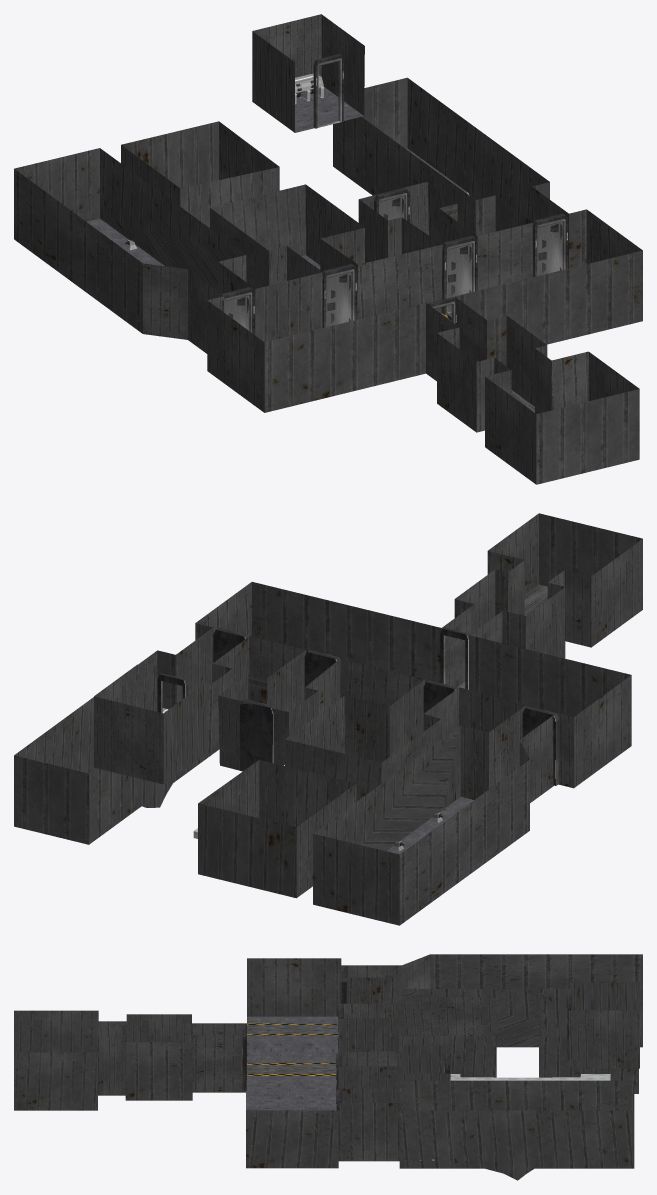
The model's file is Tutorial.fbx.
3 renders of one model, top to bottom at view 1: azimuth 30°, elevation 25°; view 2: azimuth 150°, elevation 25°; view 3: azimuth 270°, elevation 25°, orthographic. The views are drawn at different scales.
Parts seen in each view (by area): view 1: Plane.001, BlastDoorOpen.002, BlastDoorOpen.003, BlastDoorOpen, BlastDoorOpen.001, BlastDoorClosed.001, BlastDoorOpen.004; view 2: Plane.001, BlastDoorOpen.004, BlastDoorOpen.001, BlastDoorOpen.002, BlastDoorClosed, BlastDoorOpen.003, BlastDoorOpen; view 3: Plane.001.
Part boxes in pixels (x1=…): Plane.001: x1=14, y1=14, x2=642, y2=484; BlastDoorOpen.002: x1=441, y1=235, x2=477, y2=314; BlastDoorOpen.003: x1=533, y1=213, x2=568, y2=277; BlastDoorOpen: x1=323, y1=264, x2=357, y2=327; BlastDoorOpen.001: x1=219, y1=287, x2=254, y2=334; BlastDoorClosed.001: x1=313, y1=54, x2=343, y2=128; BlastDoorOpen.004: x1=374, y1=187, x2=409, y2=222; Plane.001: x1=14, y1=513, x2=642, y2=925; BlastDoorOpen.004: x1=240, y1=699, x2=275, y2=771; BlastDoorOpen.001: x1=522, y1=706, x2=559, y2=785; BlastDoorOpen.002: x1=304, y1=650, x2=339, y2=700; BlastDoorClosed: x1=440, y1=627, x2=469, y2=689; BlastDoorOpen.003: x1=213, y1=627, x2=248, y2=662; BlastDoorOpen: x1=423, y1=680, x2=457, y2=713; Plane.001: x1=14, y1=954, x2=642, y2=1180.
Size of the model in its own units: 11795 by 4822 by 20045.
